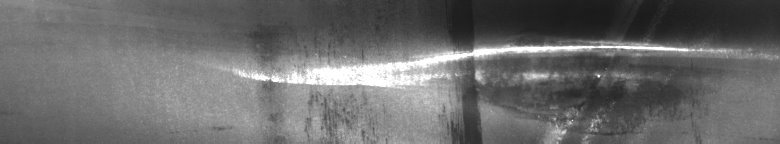ke: (236, 32, 776, 136)
